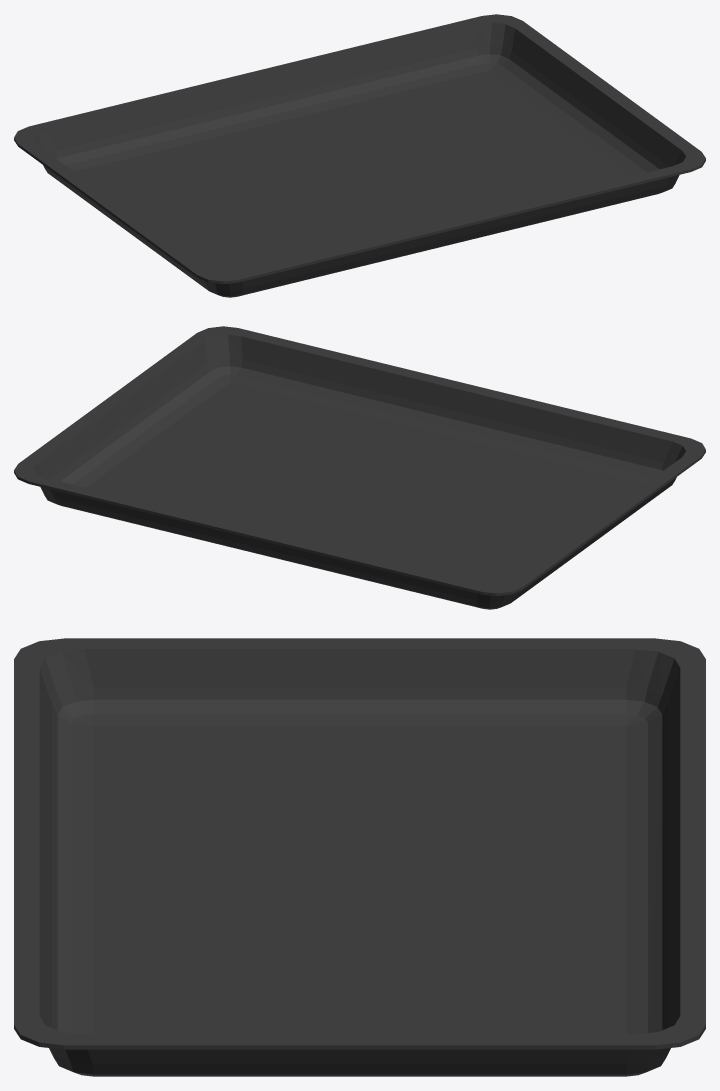
Rendered from 510 Baking Tray 01.obj.
3 views of the same model, one above another, from view 1: azimuth 30°, elevation 25°; view 2: azimuth 150°, elevation 25°; view 3: azimuth 270°, elevation 25° (orthographic). The views are drawn at different scales.
Parts seen in each view (by area): view 1: Baking_Tray; view 2: Baking_Tray; view 3: Baking_Tray.
Part boxes in pixels (bbox=[...]): Baking_Tray: bbox=[14, 14, 705, 297]; Baking_Tray: bbox=[14, 326, 705, 609]; Baking_Tray: bbox=[14, 638, 705, 1076].
Size of the model in its own units: 90.84 by 6.08 by 65.3.
1 material, 1 textured.
